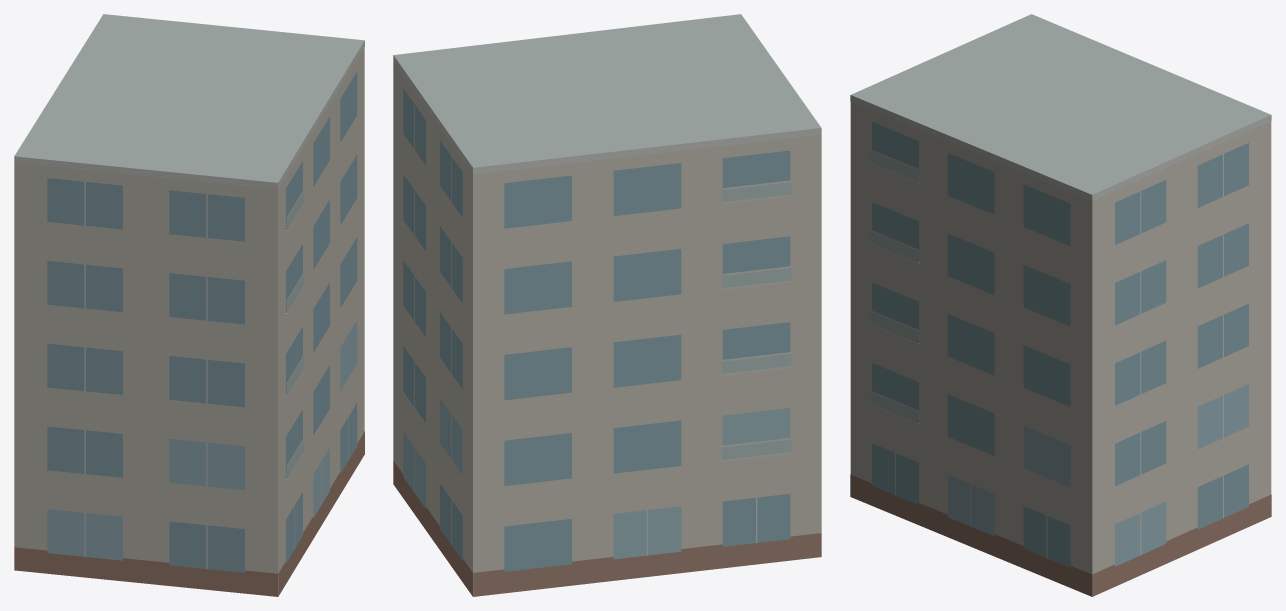
Rendered from survey-upis-32690679.glb.
The picture shows the model from 3 angles, left to right: view 1: azimuth 30°, elevation 25°; view 2: azimuth 150°, elevation 25°; view 3: azimuth 270°, elevation 25°; orthographic projection. The views are drawn at different scales.
Parts seen in each view (by area): view 1: survey-upis-32690679.tmp; view 2: survey-upis-32690679.tmp; view 3: survey-upis-32690679.tmp.
Boxes of the visible parts, bbox=[...] form: survey-upis-32690679.tmp: bbox=[14, 14, 364, 596]; survey-upis-32690679.tmp: bbox=[393, 14, 821, 596]; survey-upis-32690679.tmp: bbox=[850, 14, 1271, 596].
Bounding box in the file's own units: 14.86 × 15.39 × 14.61.
